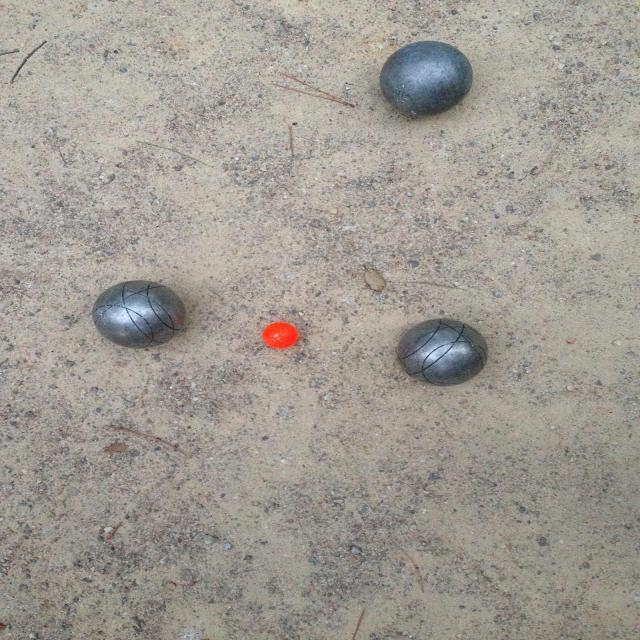hatball: (251, 312, 303, 355)
petanque: (374, 29, 486, 124), (382, 310, 500, 398), (82, 274, 201, 358)
